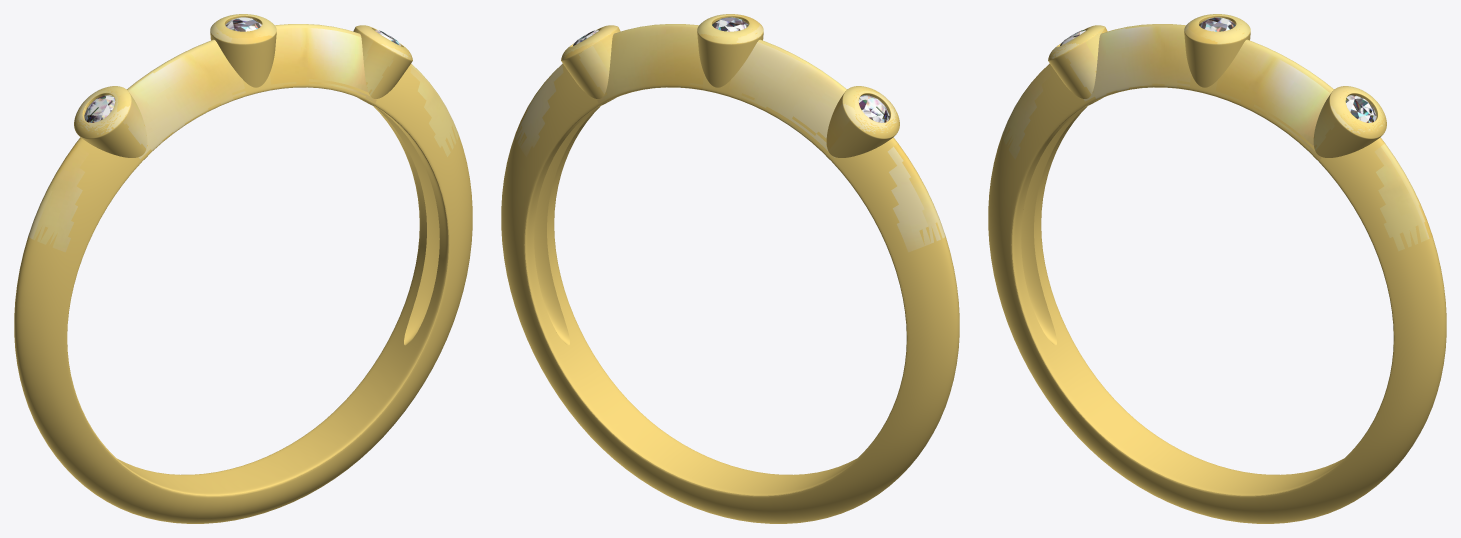
The model's file is bad.gltf.
3 renders of one model, left to right at view 1: azimuth 30°, elevation 25°; view 2: azimuth 150°, elevation 25°; view 3: azimuth 330°, elevation 25°, orthographic.
Parts seen in each view (by area): view 1: baoxiang; view 2: baoxiang; view 3: baoxiang.
Boxes of the visible parts, left/top/right/bottom form: baoxiang: left=14, top=14, right=472, bottom=523; baoxiang: left=501, top=14, right=959, bottom=523; baoxiang: left=988, top=14, right=1446, bottom=523.
Bounding box in the file's own units: 19.85 × 20.52 × 2.51.
4 materials, 4 textured.
